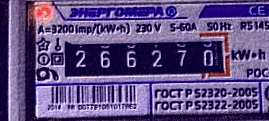0: (201, 48, 215, 68)
2: (74, 48, 87, 70), (151, 49, 164, 69)
6: (125, 49, 138, 69), (99, 49, 111, 70)
7: (177, 48, 187, 67)
screen: (53, 28, 237, 87)
